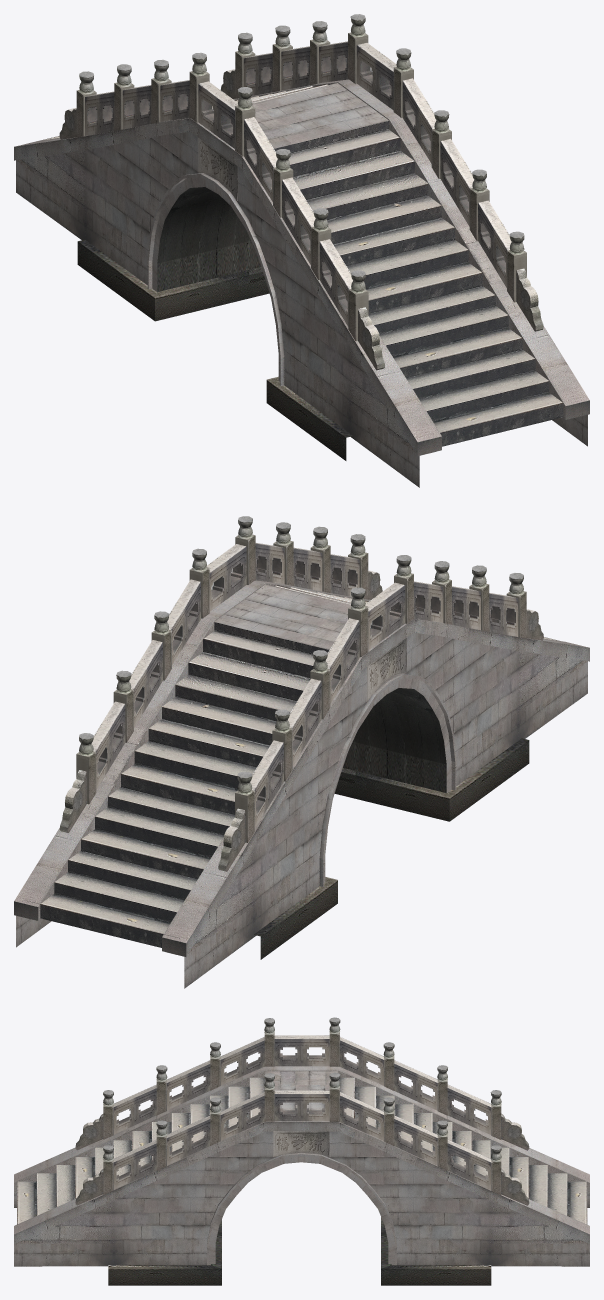
File: Building_LT_BridgeLFQ.FBX
3 views of the same model, one above another, from view 1: azimuth 30°, elevation 25°; view 2: azimuth 150°, elevation 25°; view 3: azimuth 270°, elevation 25° (orthographic). The views are drawn at different scales.
Visible parts, largest first — view 1: Building_BridgeLFQ; view 2: Building_BridgeLFQ; view 3: Building_BridgeLFQ.
Boxes of the visible parts, x1,y1,x2,y2 form: Building_BridgeLFQ: (14,14,589,487); Building_BridgeLFQ: (14,516,589,988); Building_BridgeLFQ: (14,1017,589,1285).
Size of the model in its own units: 437 by 1616 by 632.
